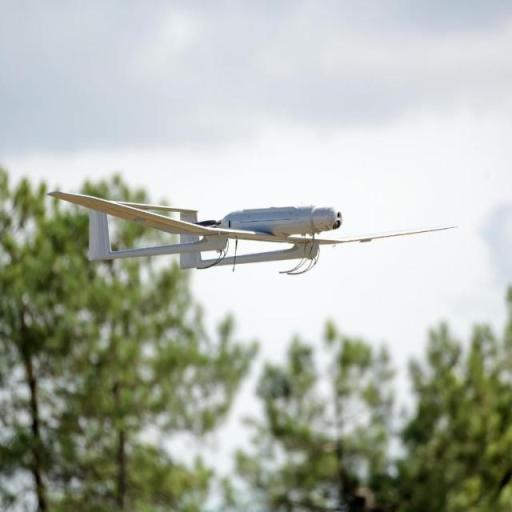uav: (48, 187, 460, 272)
